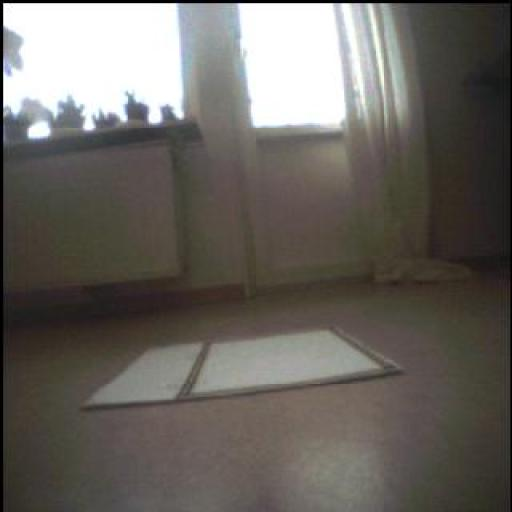Pad: (83, 326, 424, 407)
